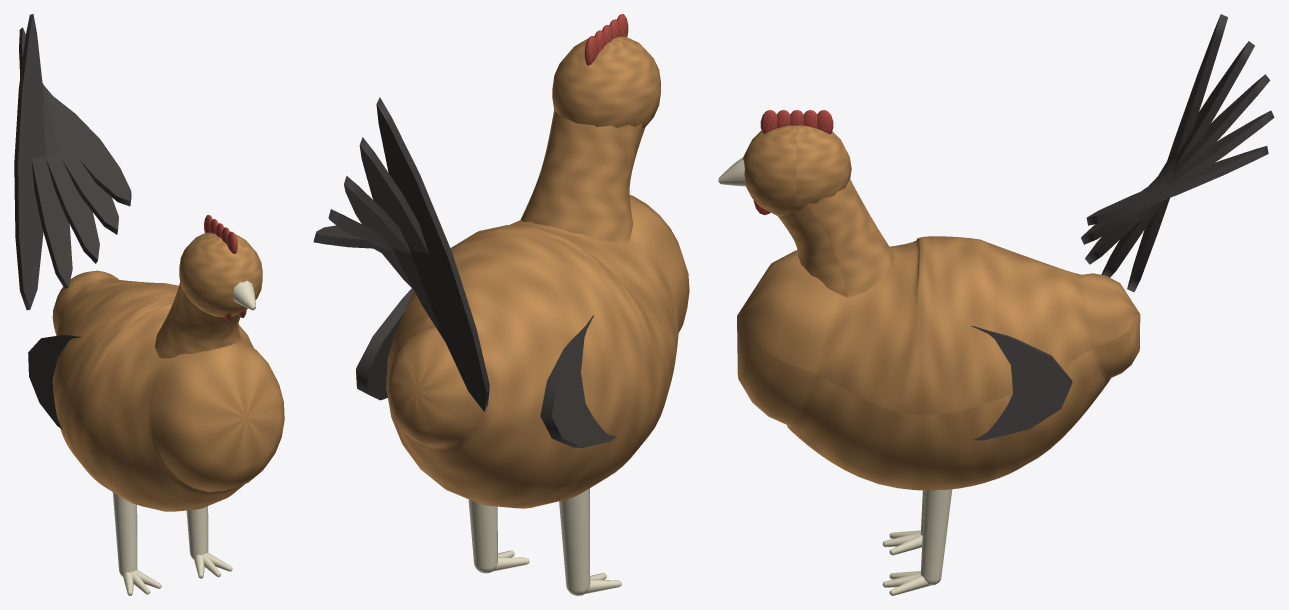
File: farm-and-working-animals-hd-cockerel-fb278a4f__29199.glb
3 views of the same model, side by side, from view 1: azimuth 30°, elevation 25°; view 2: azimuth 150°, elevation 25°; view 3: azimuth 270°, elevation 25° (orthographic). The views are drawn at different scales.
Parts seen in each view (by area): view 1: cockerel; view 2: cockerel; view 3: cockerel.
Part boxes in pixels (x1,y1,x2,y2): cockerel: [14, 14, 284, 595]; cockerel: [313, 14, 689, 595]; cockerel: [718, 14, 1274, 595].
Size of the model in its own units: 0.3137 by 0.7828 by 0.7181.
4 materials, 3 textured.
